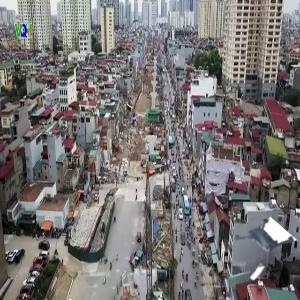drone: (222, 213, 287, 278)
